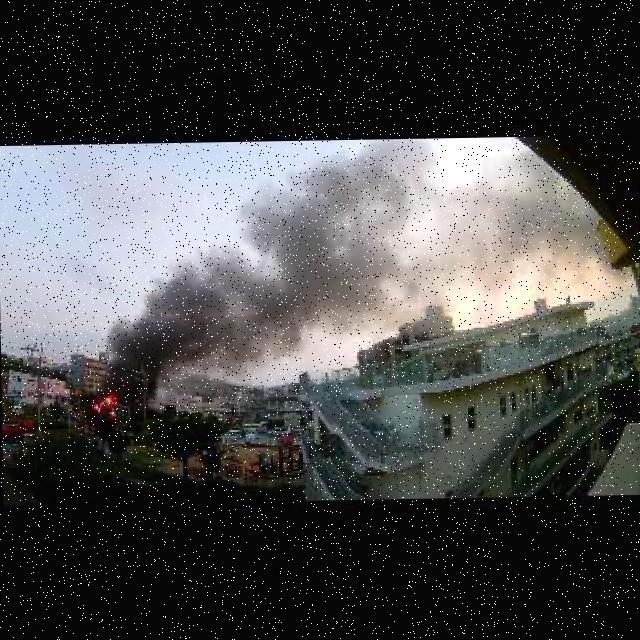Fire: (90, 396, 114, 416)
Smoke: (253, 137, 612, 319), (165, 230, 353, 369), (94, 298, 186, 406)
